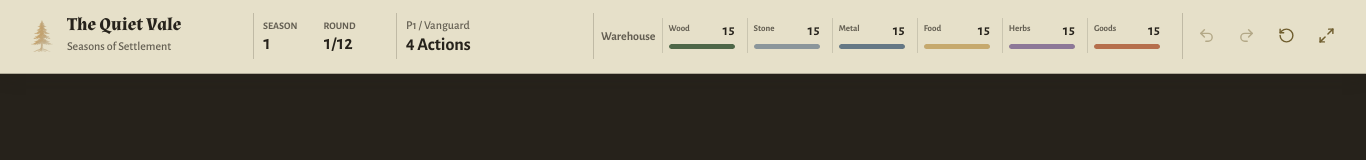
Scenario: top bar › toggles fullscreen from the top controls
This screenshot has width=1366, height=160.
Click the button named "Enter fullscreen" at {"x": 1326, "y": 36}, box [1310, 20, 1344, 52]
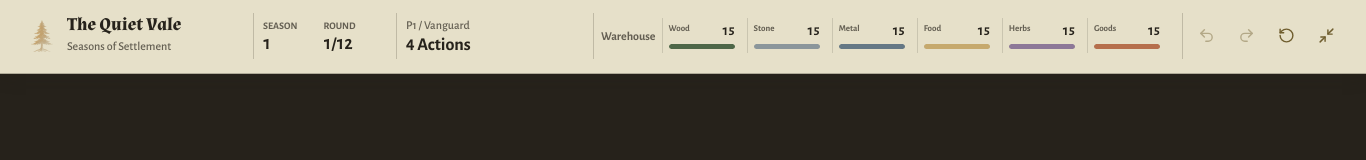
Expected: the button named "Exit fullscreen" is shown
Click the button named "Exit fullscreen" at {"x": 1326, "y": 36}, box [1310, 20, 1344, 52]
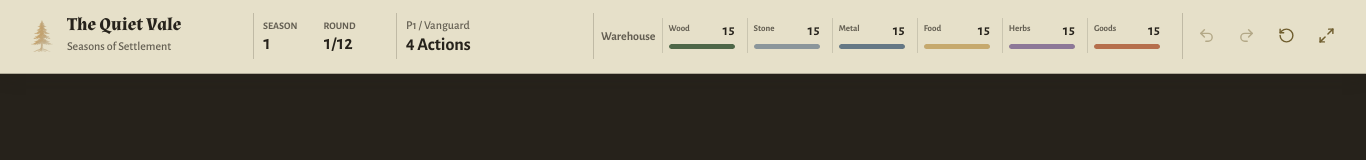
Expected: the button named "Enter fullscreen" is shown, [1310, 20, 1344, 52]
